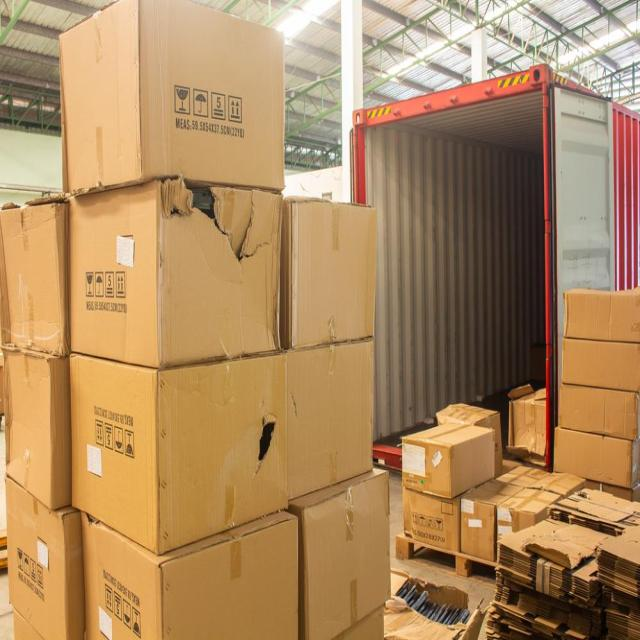Garbage: (63, 348, 299, 558), (60, 176, 289, 378)
Pathole: (274, 332, 381, 511), (287, 470, 397, 639), (280, 198, 384, 353), (387, 418, 499, 503), (545, 422, 639, 495), (553, 332, 640, 394), (559, 283, 640, 348)
